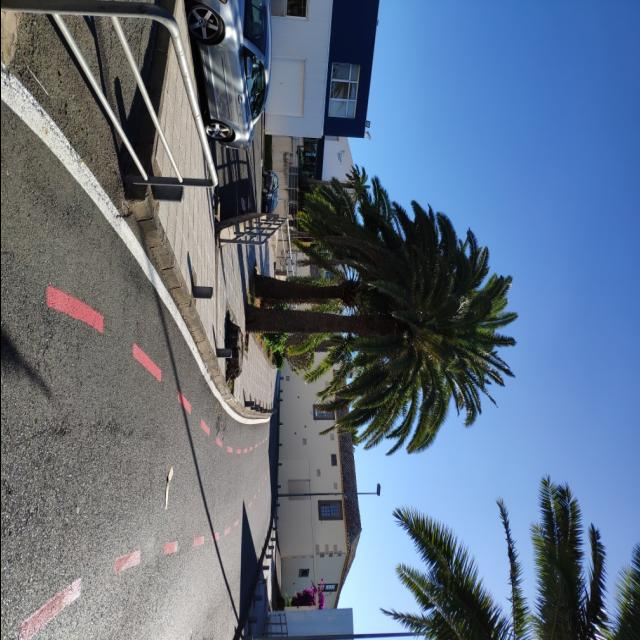Palm-Trees: (242, 195, 520, 454)
